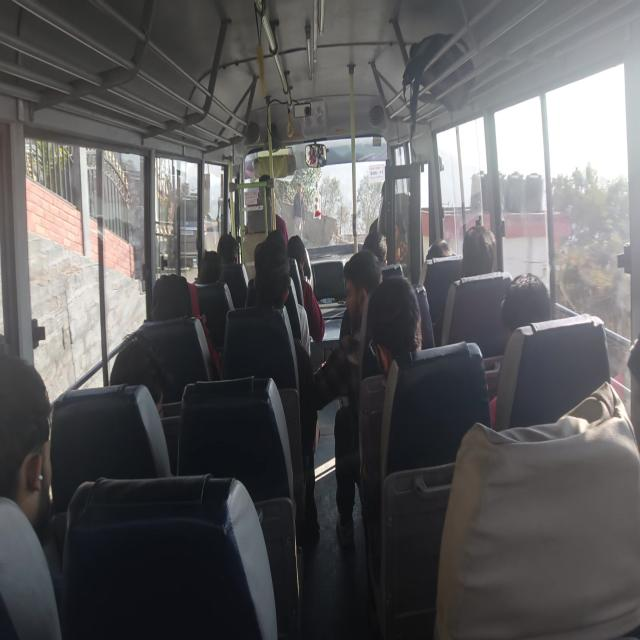person: (0, 384, 81, 575), (509, 265, 612, 411), (378, 303, 444, 382), (344, 251, 394, 343), (154, 279, 210, 343), (127, 336, 175, 410), (463, 224, 510, 298), (617, 326, 640, 462), (256, 256, 295, 314), (193, 241, 233, 294), (284, 240, 315, 291), (219, 228, 247, 282), (270, 217, 300, 257), (432, 239, 464, 272), (362, 226, 390, 258)
